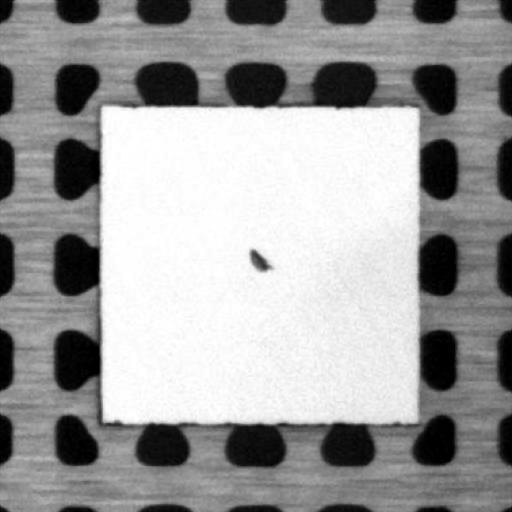DIE_INK: (246, 246, 274, 270)
